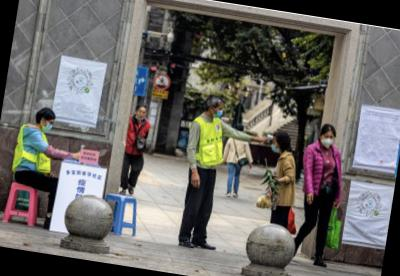mask_weared_incorrect: (136, 108, 147, 119)
with_mask: (320, 132, 335, 148), (213, 103, 225, 119), (270, 138, 282, 152), (43, 119, 54, 133)
